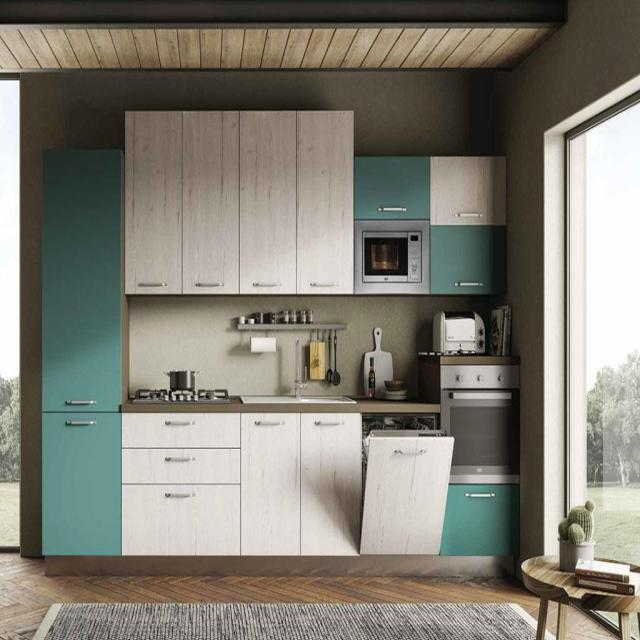dishwasher: (358, 403, 457, 559)
